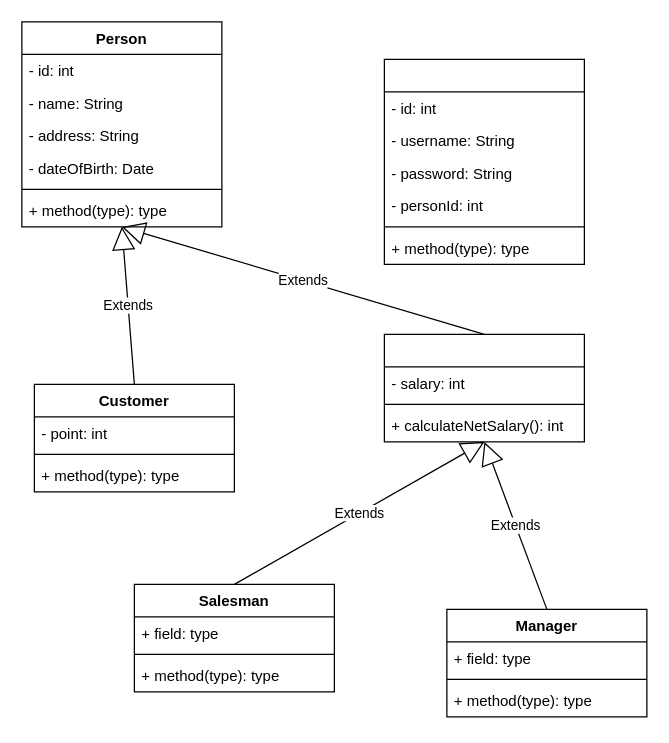
The diagram is 669 pixels wide and 743 high, and some of its shapes have lost their labels. The shapes that lost their labels are listed below. From the top down, each one's box as (x1, y1, x2, y2) in pixels, then its label:
(383, 58, 584, 264): Account
(383, 333, 584, 442): Employee
